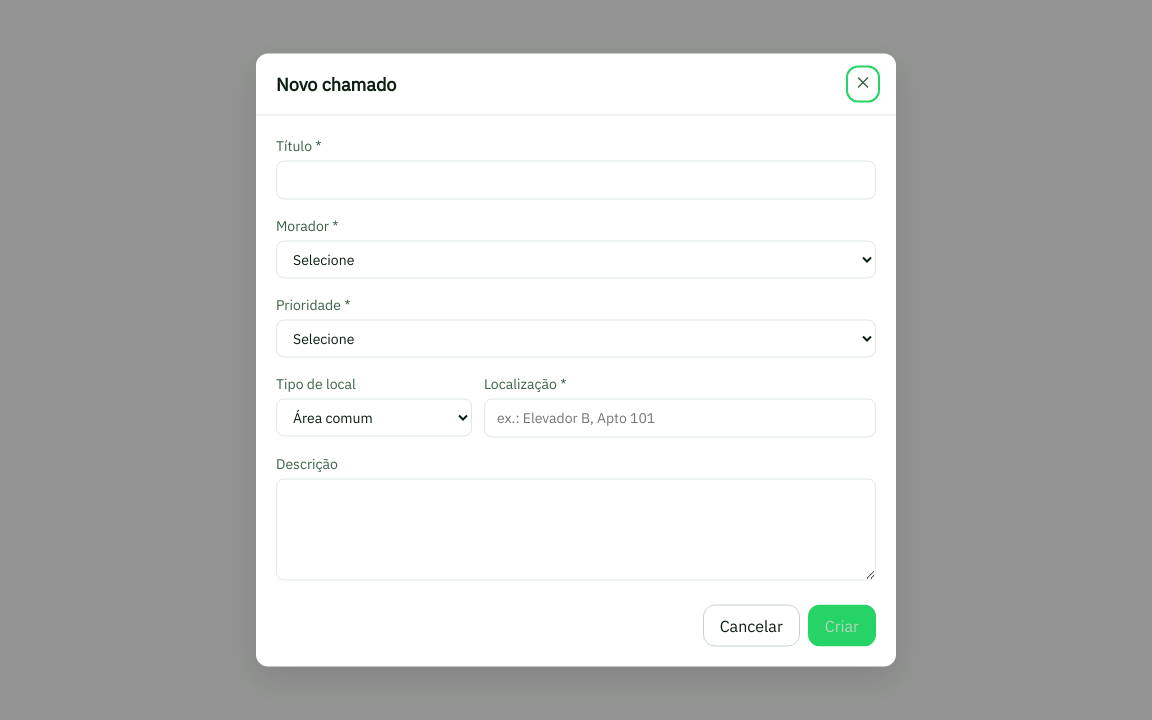
TicketCreateModal › 'Criar' começa desabilitado e habilita quando o form fica válido
Expected: the button "Criar" is disabled, [808, 604, 876, 646]
Type "Vazamento" into the field labelled "Título *" at coordinates (576, 180), box [276, 160, 876, 200]
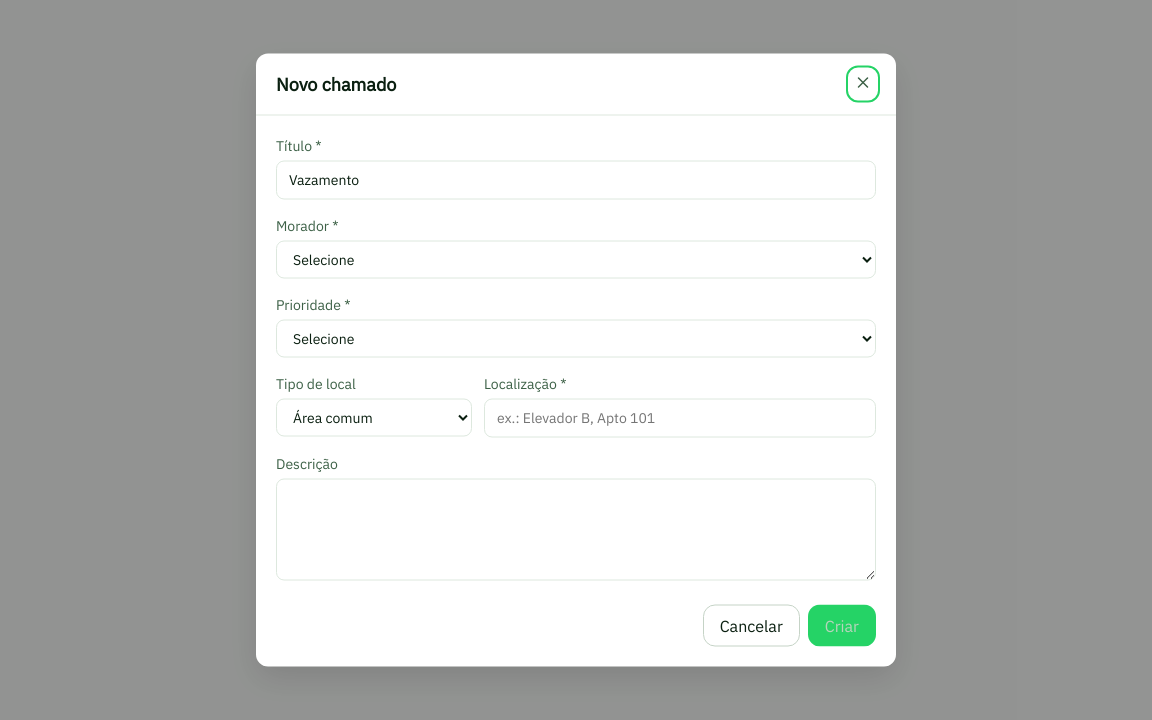
Select "Ana" in the dropdown labelled "Morador *" at coordinates (576, 260), box [276, 240, 876, 278]
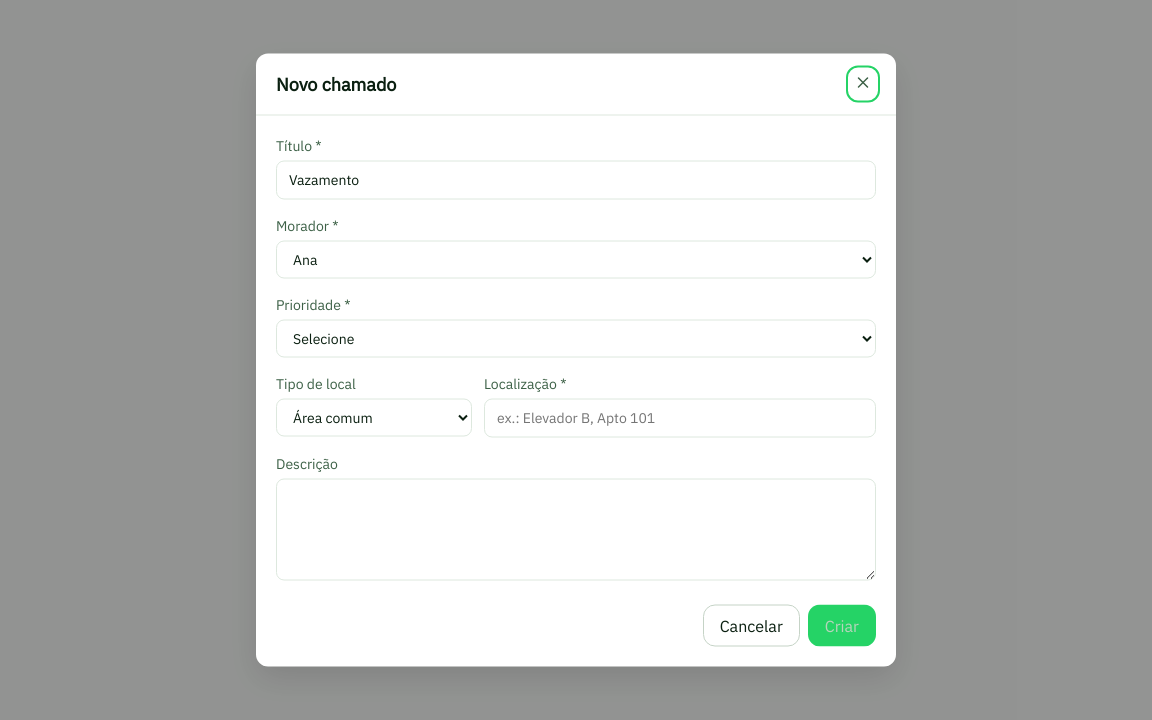
Select "Alta" in the dropdown labelled "Prioridade *" at coordinates (576, 338), box [276, 320, 876, 358]
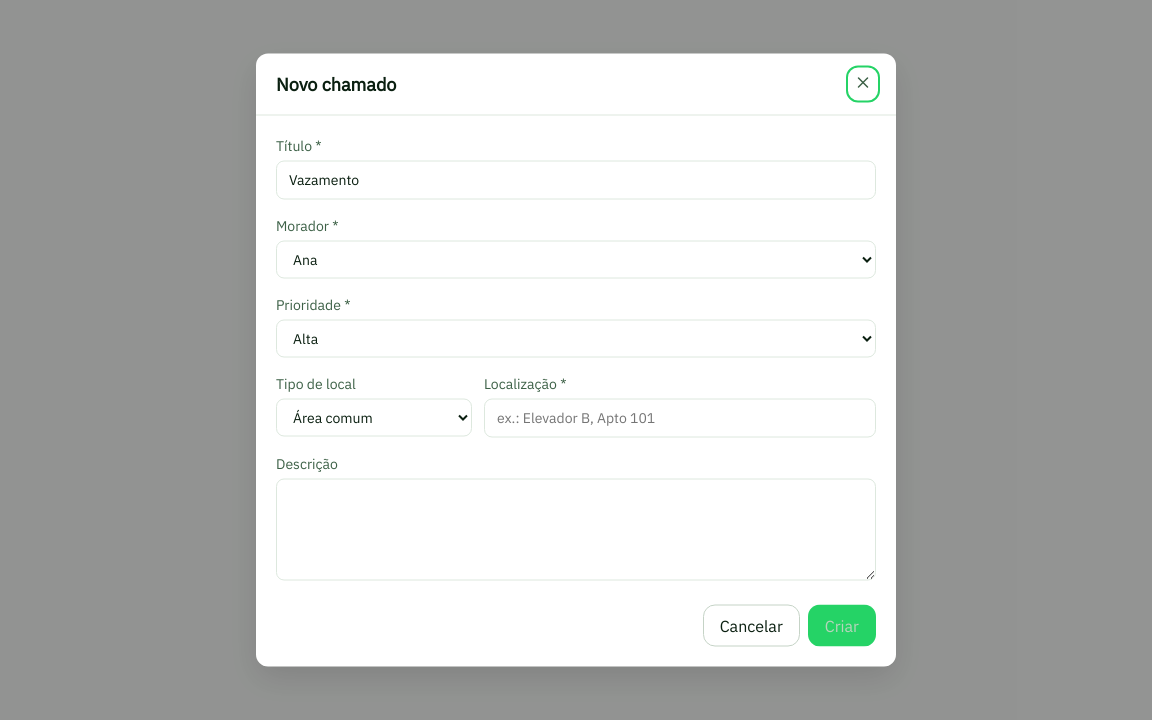
Type "Garagem" into the field labelled "Localização *" at coordinates (680, 418), box [484, 398, 876, 438]
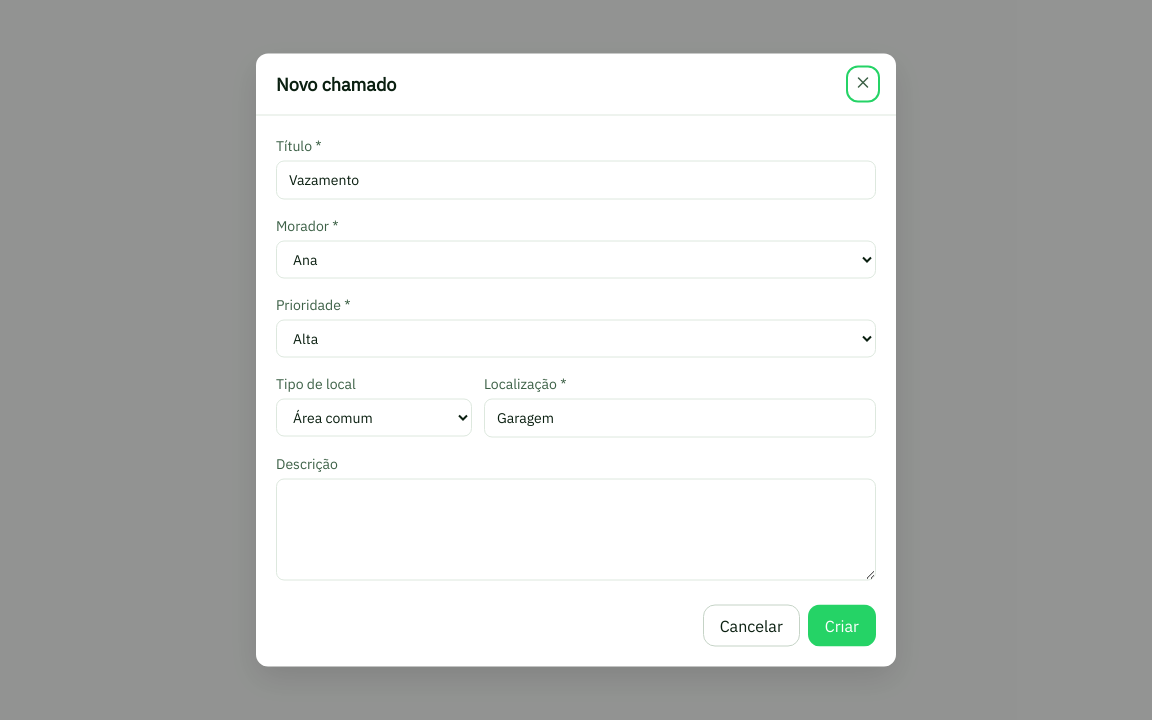
Result: the button "Criar" is enabled at [808, 604, 876, 646]
